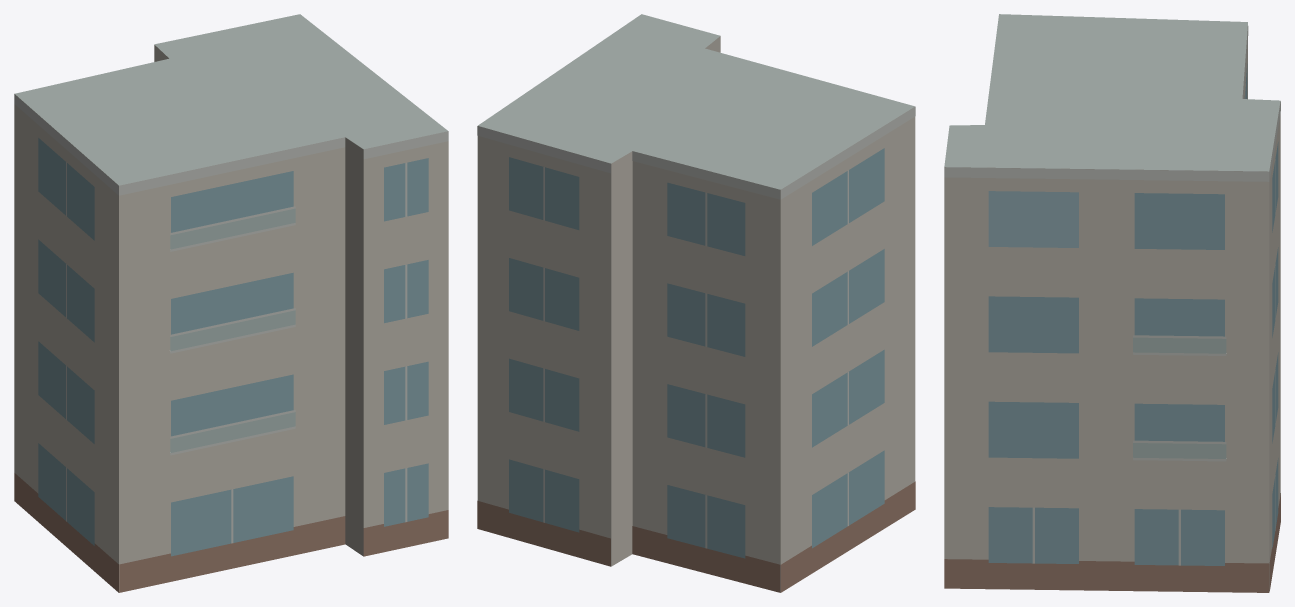
Rendered from survey-upis-32464258.glb.
The picture shows the model from 3 angles, left to right: view 1: azimuth 30°, elevation 25°; view 2: azimuth 150°, elevation 25°; view 3: azimuth 270°, elevation 25°; orthographic projection. The views are drawn at different scales.
Parts seen in each view (by area): view 1: survey-upis-32464258.tmp; view 2: survey-upis-32464258.tmp; view 3: survey-upis-32464258.tmp.
Boxes of the visible parts, x1,y1,x2,y2 form: survey-upis-32464258.tmp: (14,14,448,592); survey-upis-32464258.tmp: (477,14,915,592); survey-upis-32464258.tmp: (944,14,1280,592).
Size of the model in its own units: 7.95 by 9.9 by 7.17.
